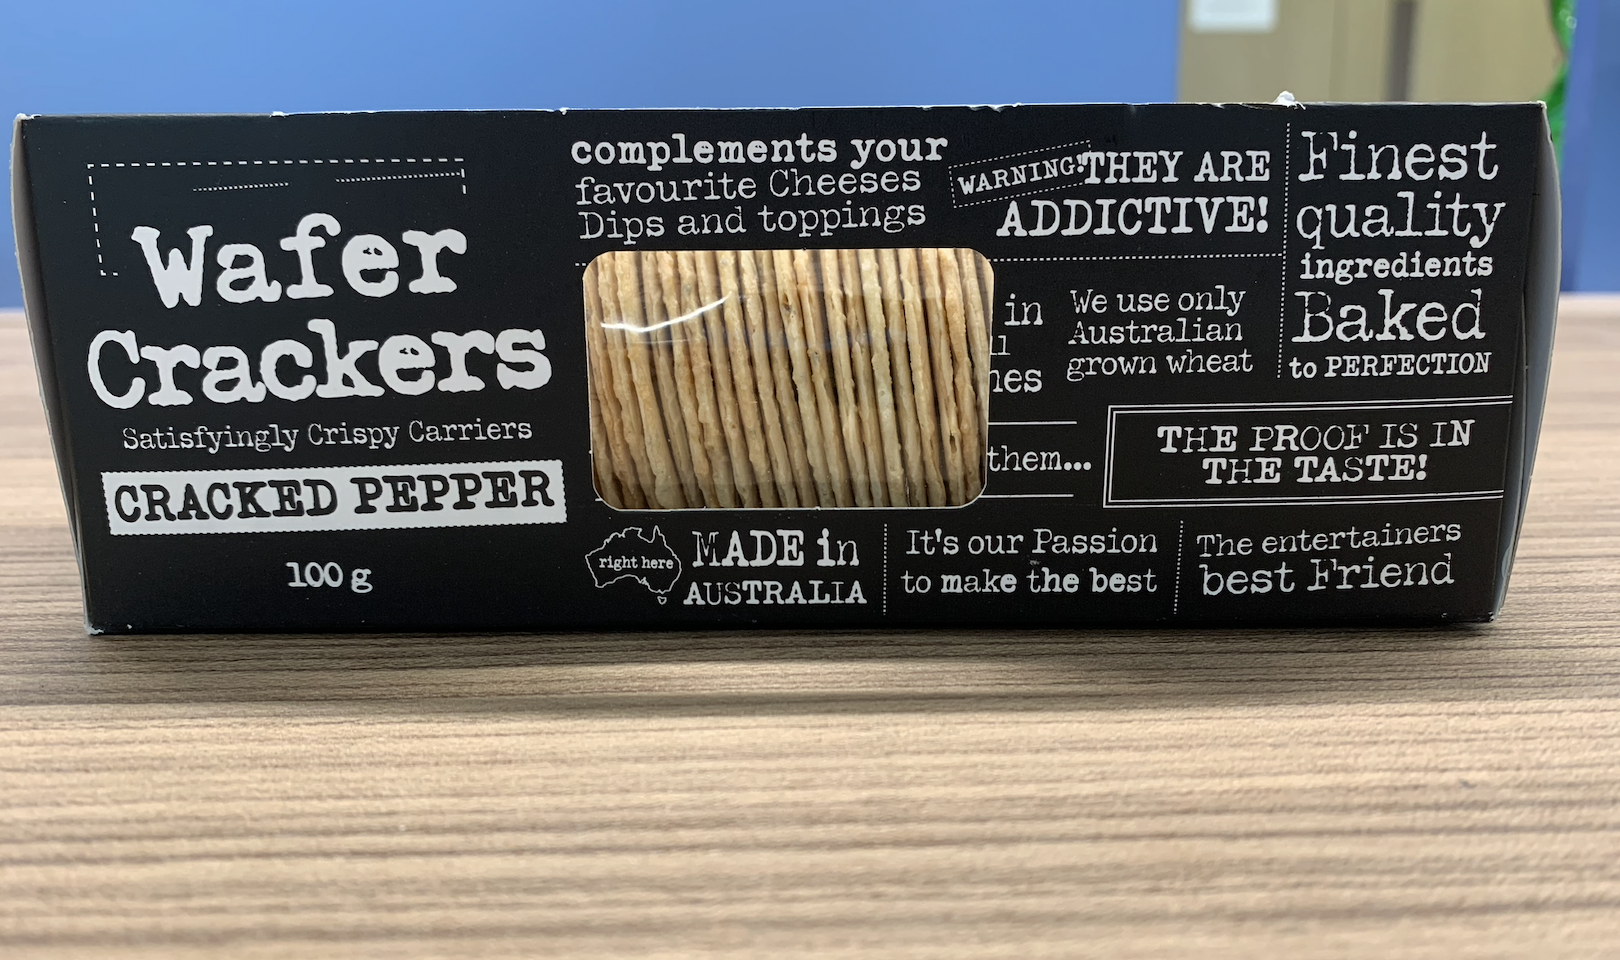crackers_150g: (61, 122, 1497, 609)
